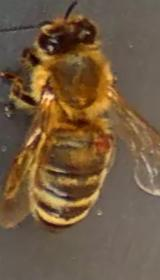varroa_mite: (86, 123, 115, 156)
